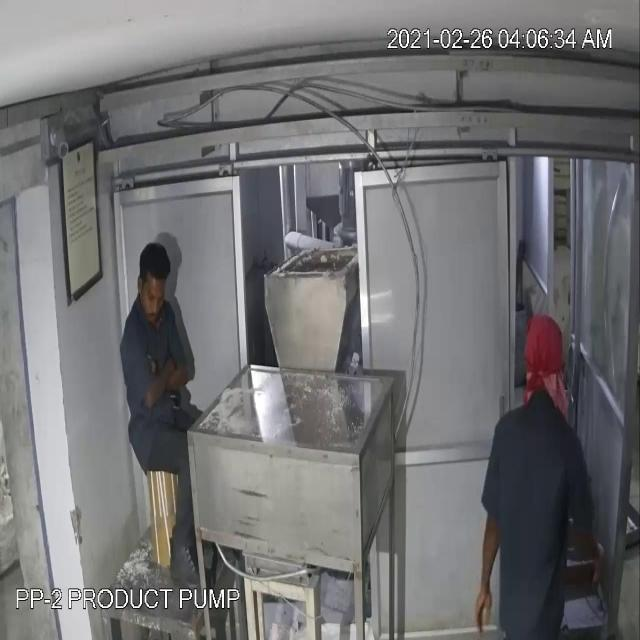no-helmet: (133, 236, 177, 295)
